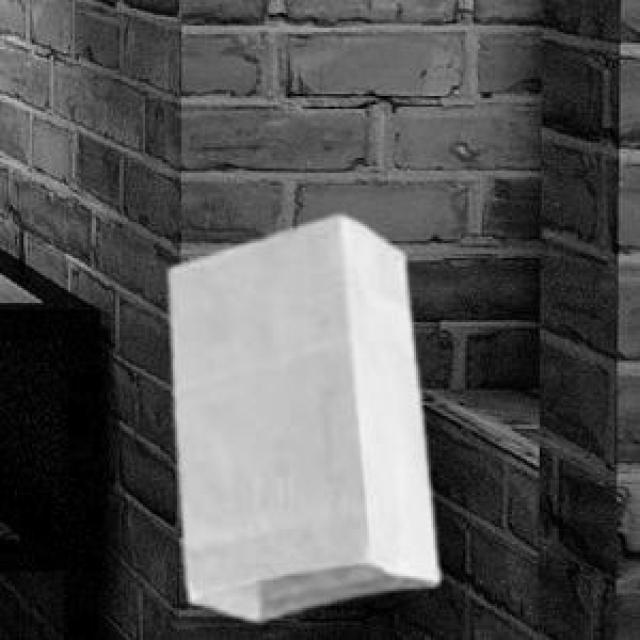paper: (164, 211, 435, 617)
